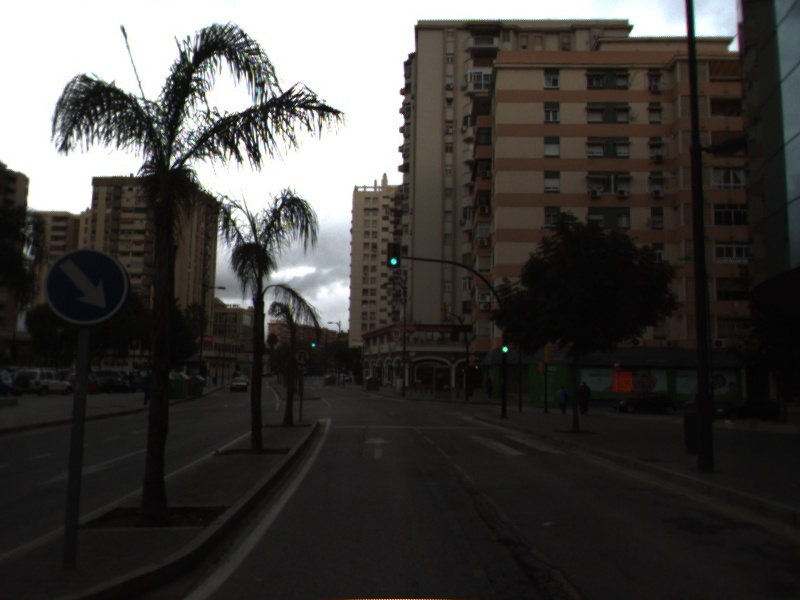STRAIGHT: (362, 433, 393, 461)
